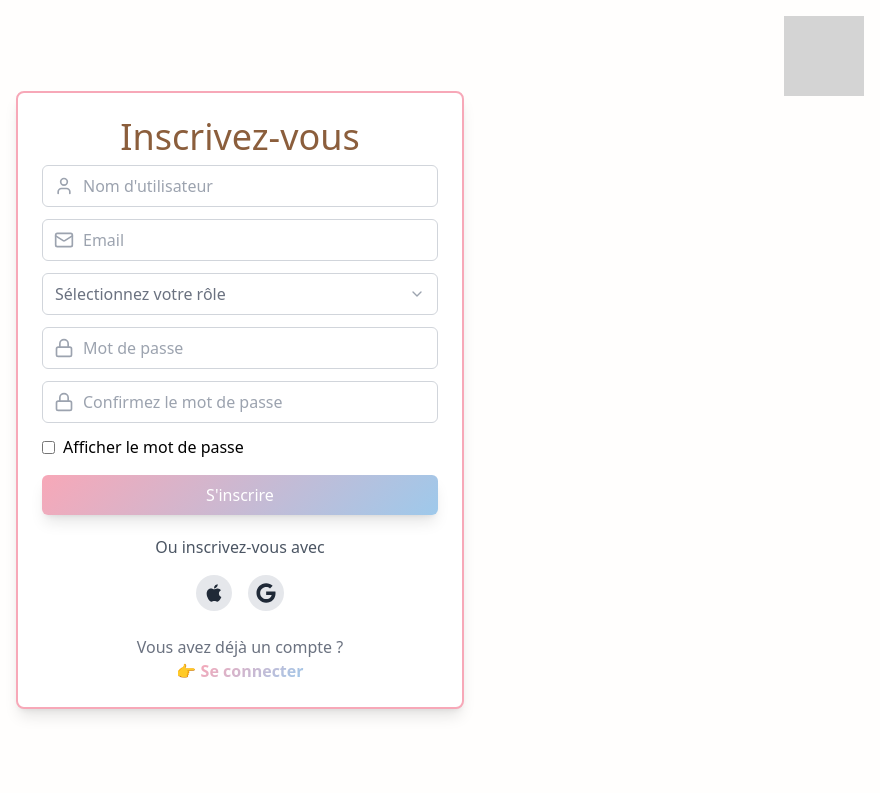
Test: Register Component › displays validation error when passwords do not match
Type "password123" into the password field with placeholder "Mot de passe" at (240, 348), box [42,327,438,369]
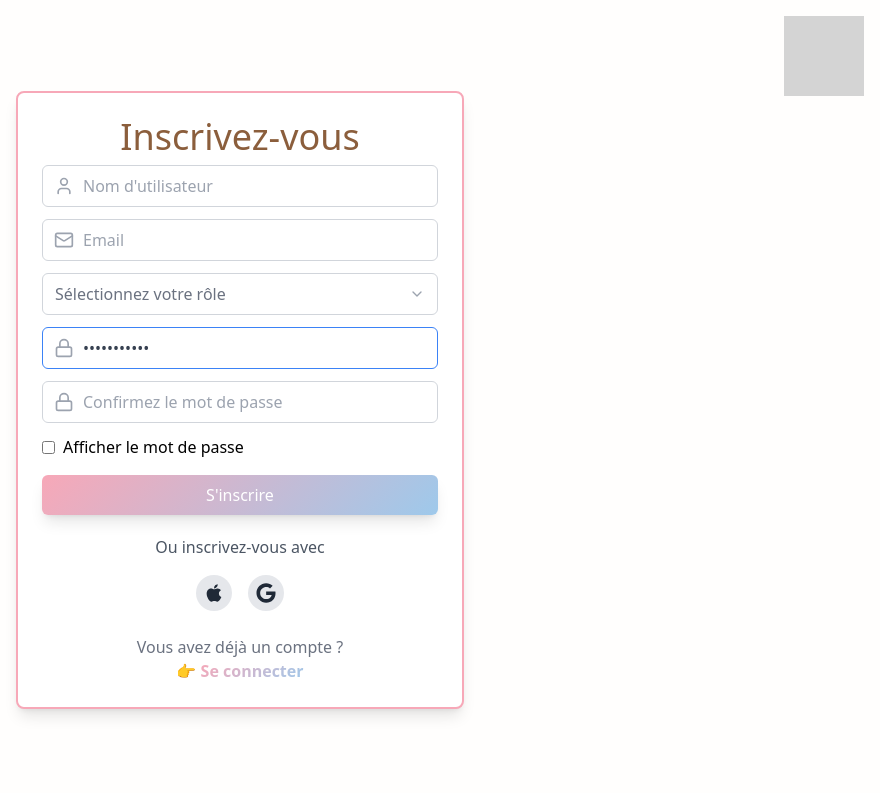
Type "different123" into the password field with placeholder "Confirmez le mot de passe" at (240, 402), box [42,381,438,423]
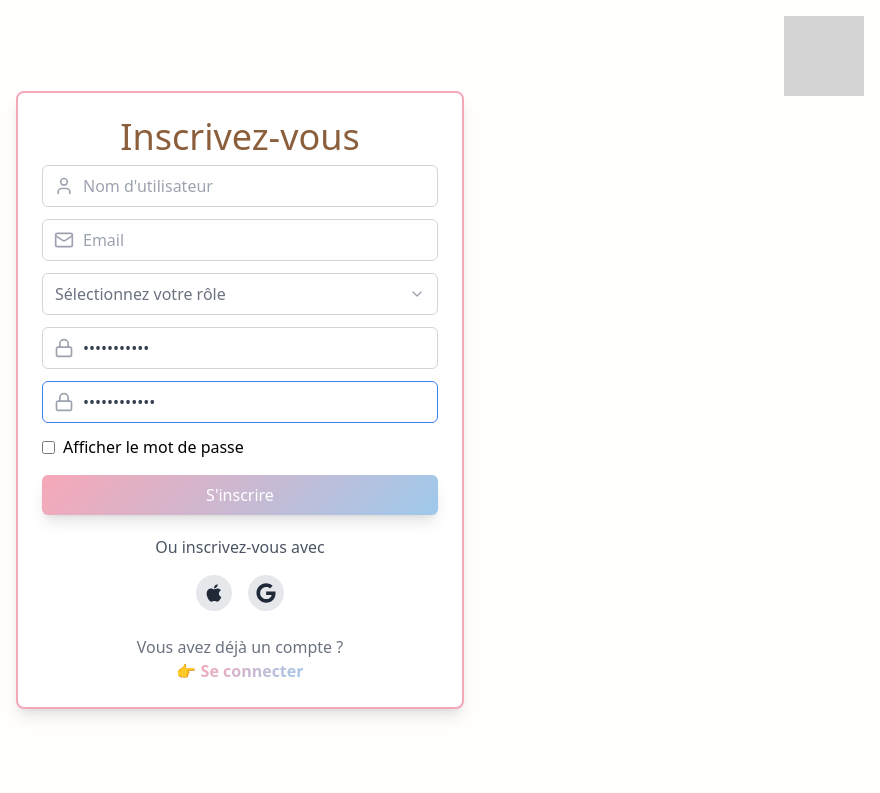
Click the button "S'inscrire" at (240, 495), box [42,475,438,515]
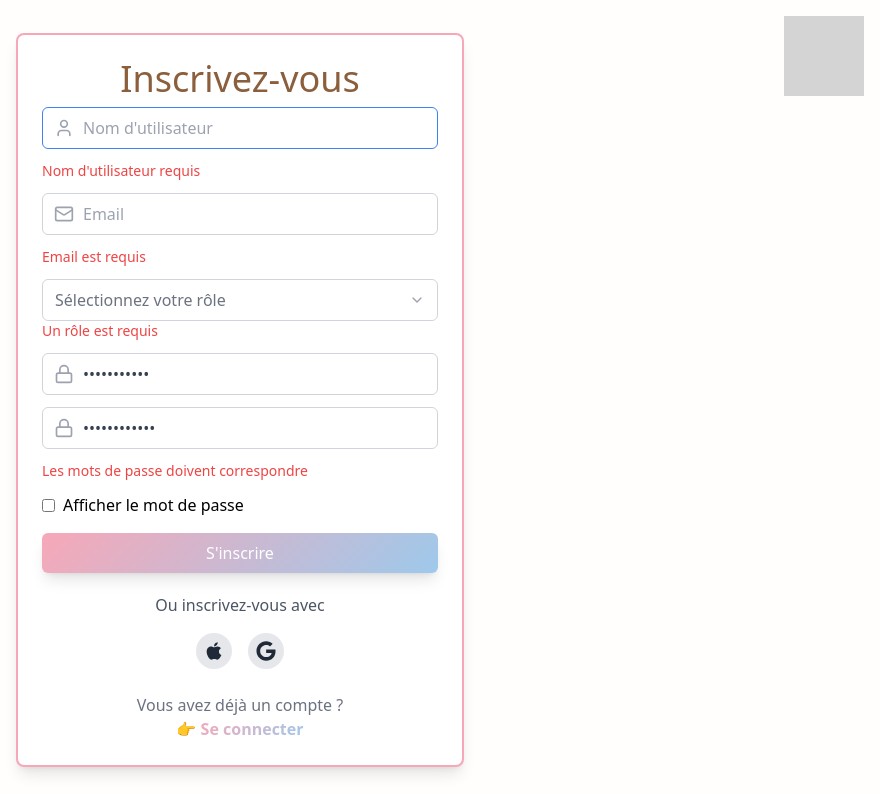
Check: the text "Les mots de passe doivent correspondre" is shown, box [42,461,308,480]
